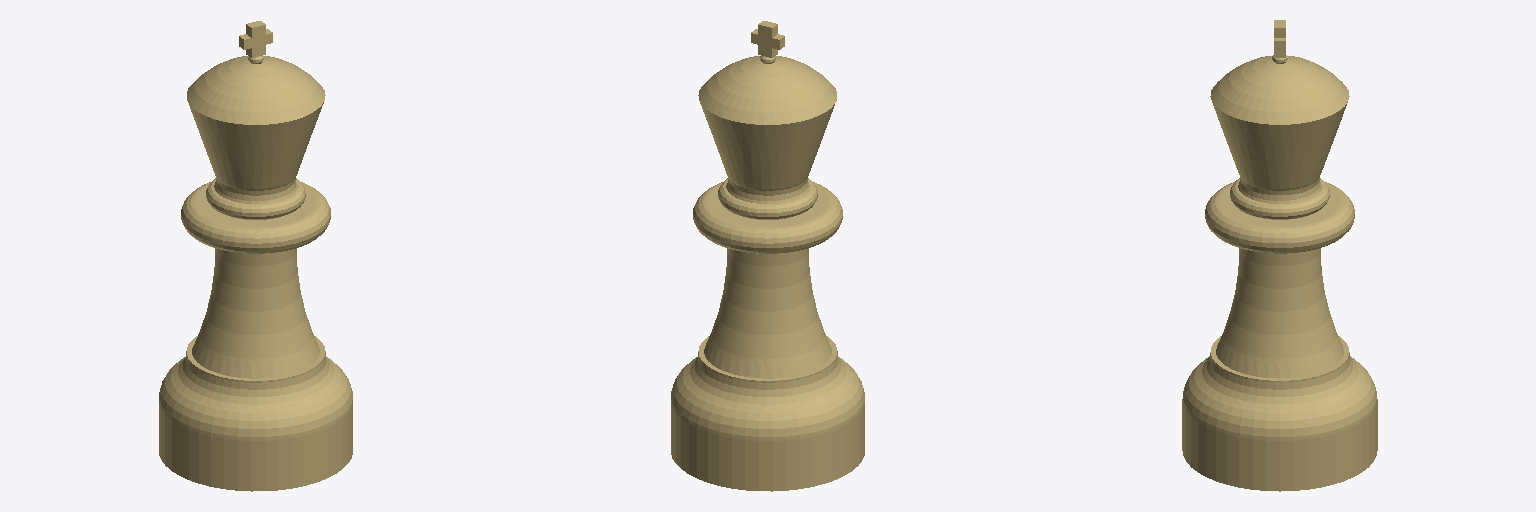
robot.urdf — king:
<?xml version="1.0" ?>
<robot name="king">

  <link name="king__link_0">
    <inertial>
      <mass value="0.002"/>
      <origin rpy="0  0  0" xyz="0  0  0"/>
      <inertia ixx="0.145833" ixy="0" ixz="0" iyy="0.145833" iyz="0" izz="0.125"/>
    </inertial>
    
    <collision name="king__collision">
      <origin rpy="1.570795  0  0" xyz="0  0  0"/>
      <geometry>
        <mesh filename="package://chessRobot/models/pieces/king/whiteKing.dae" scale="0.01 0.01 0.01"/>
      </geometry>
    <mu1 value="1.0"/>
    <mu2 value="1.0"/>
    <kp  value="10000000.0" />
    <kd  value="1.0" />
    <minDepth>0.002</minDepth>
    <maxVel>0</maxVel>  
    <dynamics damping="0.7" friction="1000" />
    </collision>
    
    <visual name="king__visual">
      <origin rpy="1.570795  0  0" xyz="0  0  0"/>
      <geometry>
        <mesh filename="package://chessRobot/models/pieces/king/whiteKing.dae" scale="0.01 0.01 0.01"/>
      </geometry>
    </visual>
  </link>
</robot> 

--- What the picture shows (computed from the rendered views, not written in the file) ---
3 views of the same robot in one strip: view 1: azimuth 30°, elevation 25°; view 2: azimuth 150°, elevation 25°; view 3: azimuth 270°, elevation 25° (orthographic).
Robot: king — 1 links, 0 joints (none); root link king__link_0; default pose: all joints at 0.
Visible links, largest first — view 1: king__link_0; view 2: king__link_0; view 3: king__link_0.
Boxes of the visible links, left/top/right/bottom form: king__link_0: left=159, top=21, right=352, bottom=491; king__link_0: left=671, top=21, right=864, bottom=491; king__link_0: left=1182, top=20, right=1377, bottom=491.
Bounding box of the posed robot: 0.035 × 0.035 × 0.0844 m (x, y, z).
Meshes: 1 distinct files referenced, 1 mesh visuals loaded (1 Collada DAE).
